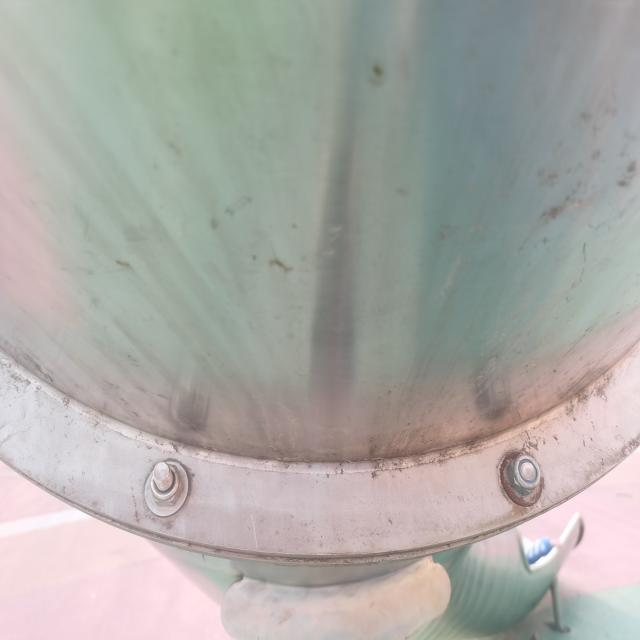bolt nut: (149, 462, 185, 509), (507, 450, 542, 498)
